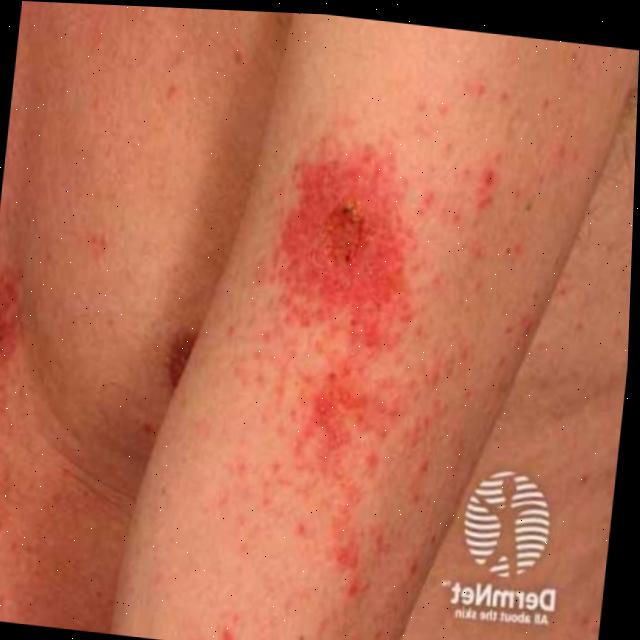Eczema: (235, 140, 466, 597)
